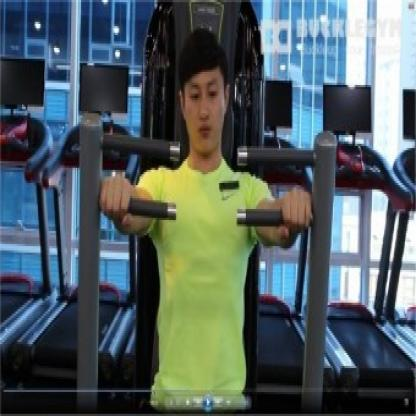Chest Press machine: (77, 0, 341, 416)
